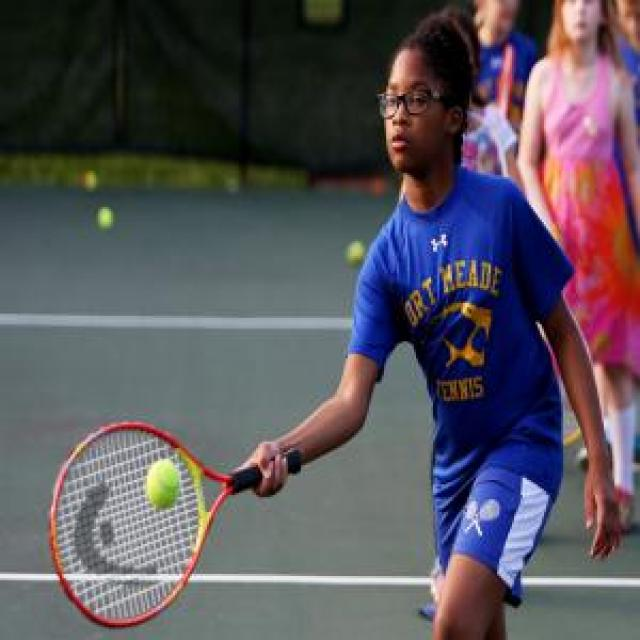Tennis-Ball: (142, 457, 188, 515), (94, 207, 116, 232), (347, 238, 365, 267)
